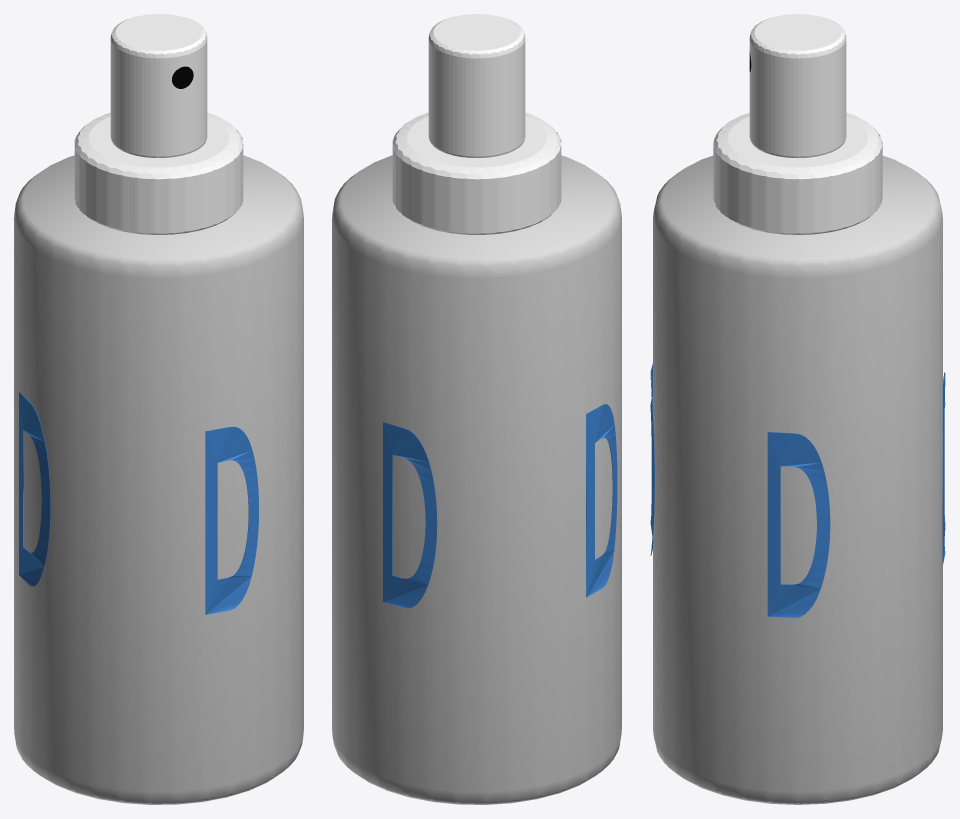
The model's file is desi.fbx.
The picture shows the model from 3 angles, left to right: view 1: azimuth 30°, elevation 25°; view 2: azimuth 150°, elevation 25°; view 3: azimuth 270°, elevation 25°; orthographic projection.
Parts seen in each view (by area): view 1: Cylinder, Cylinder.001, Cylinder.002, Text.002, Text; view 2: Cylinder, Cylinder.001, Cylinder.002, Text.003, Text; view 3: Cylinder, Cylinder.001, Cylinder.002, Text.001, Text.002, Text.003.
Boxes of the visible parts, bbox=[...] form: Cylinder: bbox=[14, 155, 303, 804]; Cylinder.001: bbox=[74, 112, 243, 234]; Cylinder.002: bbox=[110, 14, 207, 157]; Text.002: bbox=[205, 426, 258, 614]; Text: bbox=[19, 392, 50, 586]; Cylinder: bbox=[332, 155, 621, 804]; Cylinder.001: bbox=[392, 112, 561, 234]; Cylinder.002: bbox=[428, 14, 525, 157]; Text.003: bbox=[383, 422, 437, 608]; Text: bbox=[586, 404, 617, 597]; Cylinder: bbox=[653, 155, 942, 804]; Cylinder.001: bbox=[713, 112, 882, 234]; Cylinder.002: bbox=[749, 14, 846, 157]; Text.001: bbox=[767, 432, 830, 617]; Text.002: bbox=[650, 363, 654, 555]; Text.003: bbox=[942, 372, 945, 563].
Bounding box in the file's own units: 12.22 × 32.67 × 12.22.
